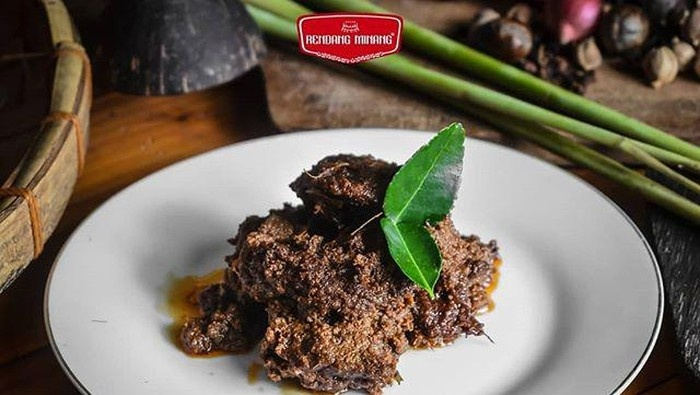rendang: (210, 151, 402, 392)
